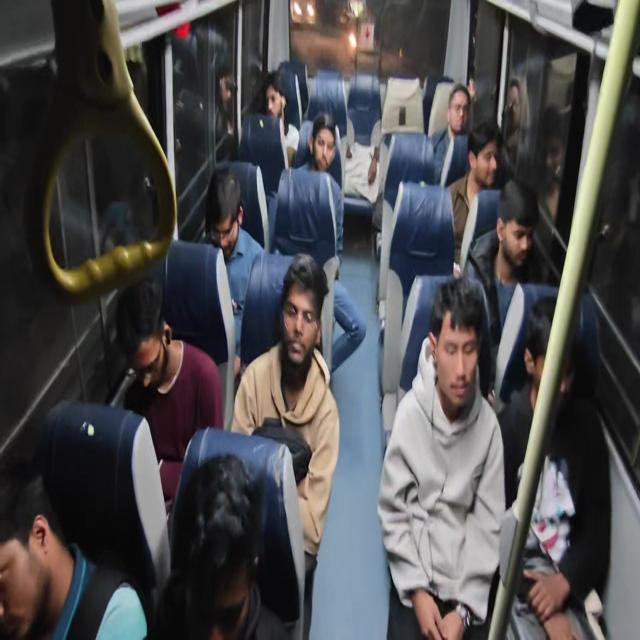person: (377, 275, 507, 638), (230, 252, 340, 638), (497, 293, 612, 639), (40, 398, 172, 619), (115, 275, 224, 507), (0, 469, 148, 639), (158, 453, 292, 638), (296, 114, 366, 370), (464, 177, 541, 342), (198, 169, 264, 361), (445, 119, 502, 273), (296, 113, 345, 263), (431, 82, 472, 186), (533, 105, 566, 224), (341, 111, 381, 202), (263, 70, 299, 170), (298, 112, 343, 188), (500, 76, 529, 170), (214, 66, 237, 160)
